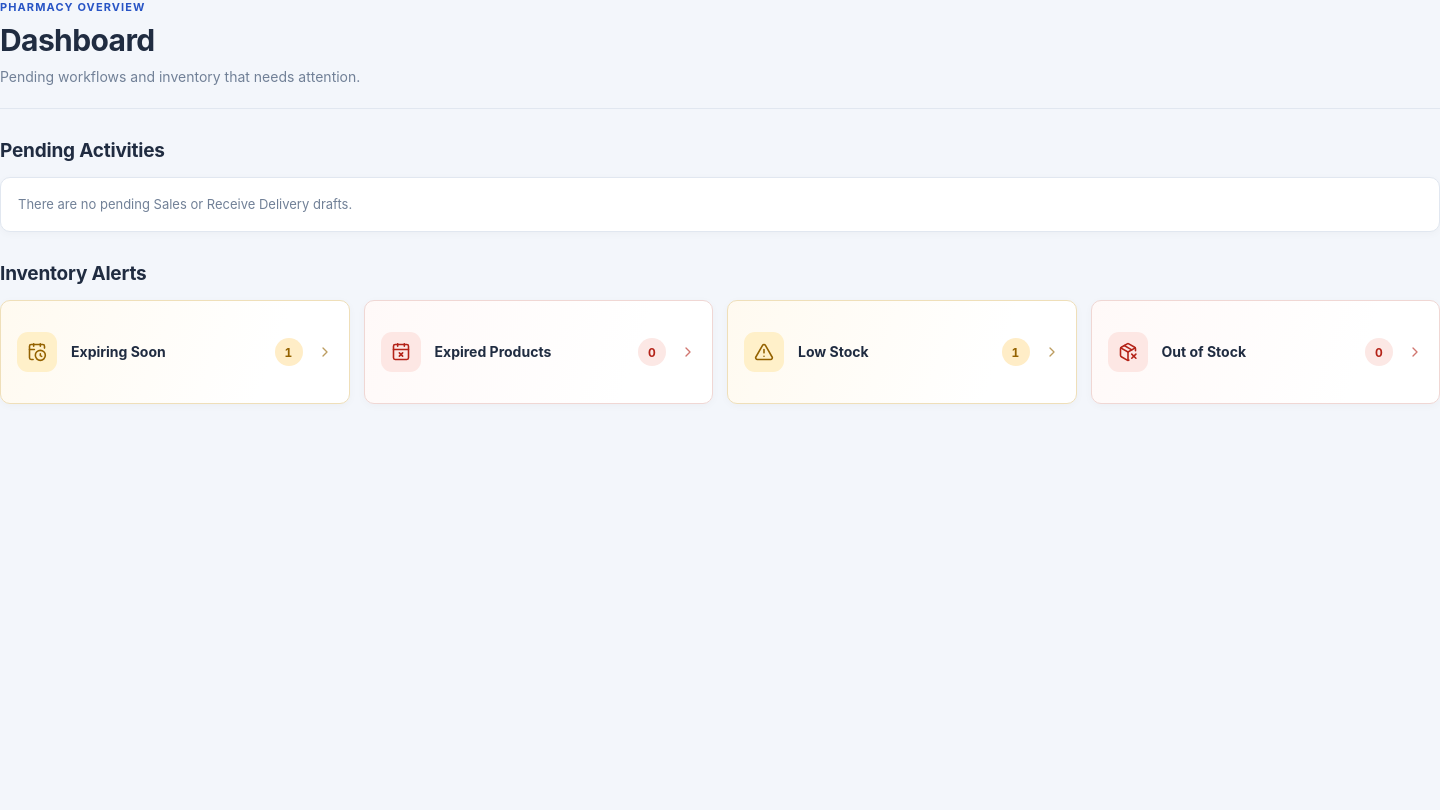
Dashboard inventory alerts › counts affected variants once while listing every matching expiry batch
Expected: the text "Panadol · 500mg Tablets" is not shown
Click the button with aria-label "Open Expiring Soon details, 1 affected product/variant". click: {"x": 37, "y": 352}
box: x1=0 y1=300 x2=350 y2=404
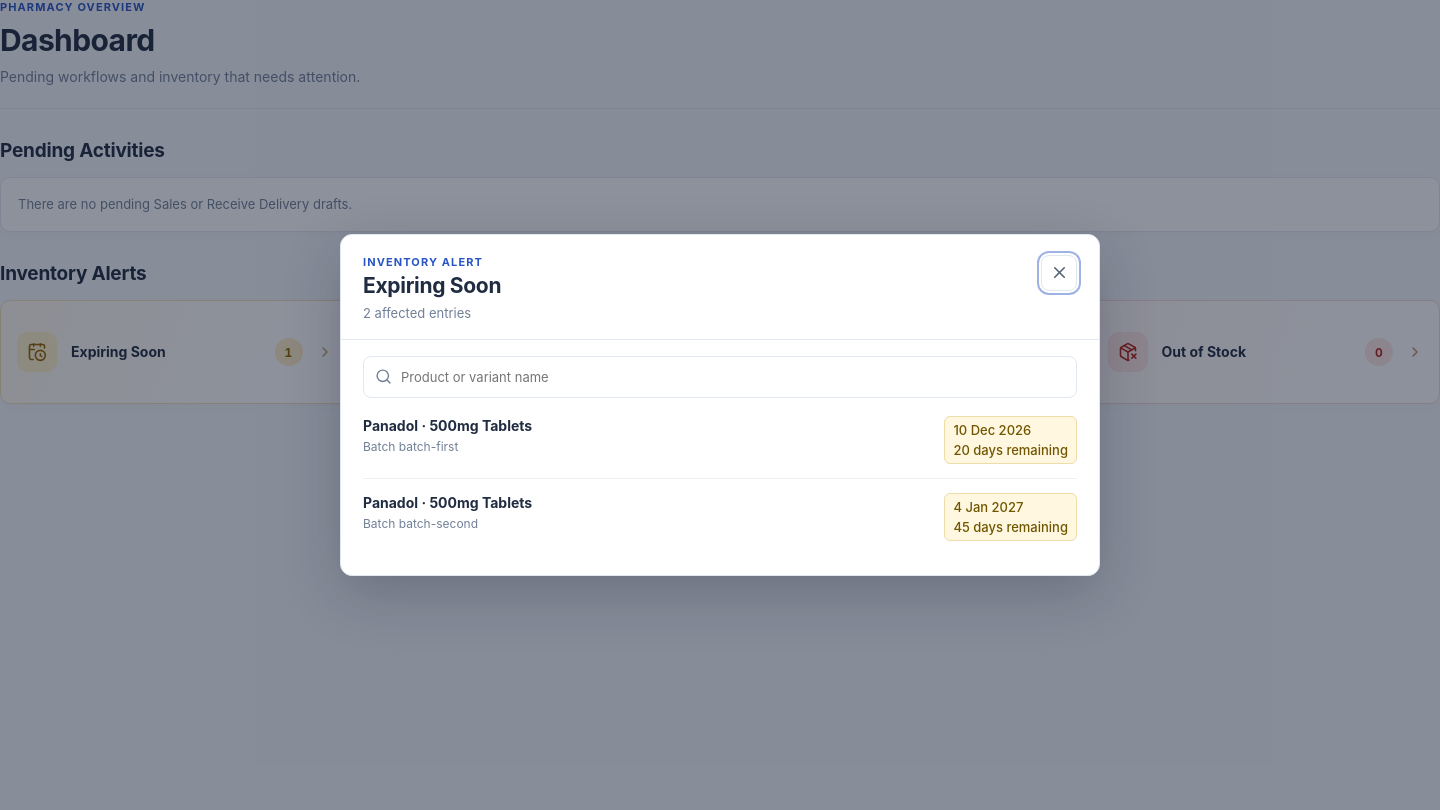
Result: the number of list items is 2 at x1=363 y1=402 x2=1077 y2=478; x1=363 y1=478 x2=1077 y2=555
Result: the text "Panadol · 500mg Tablets" is shown 2 times at x1=363 y1=416 x2=532 y2=434; x1=363 y1=494 x2=532 y2=511
Result: the text "Batch batch-first" is shown at x1=363 y1=439 x2=458 y2=454
